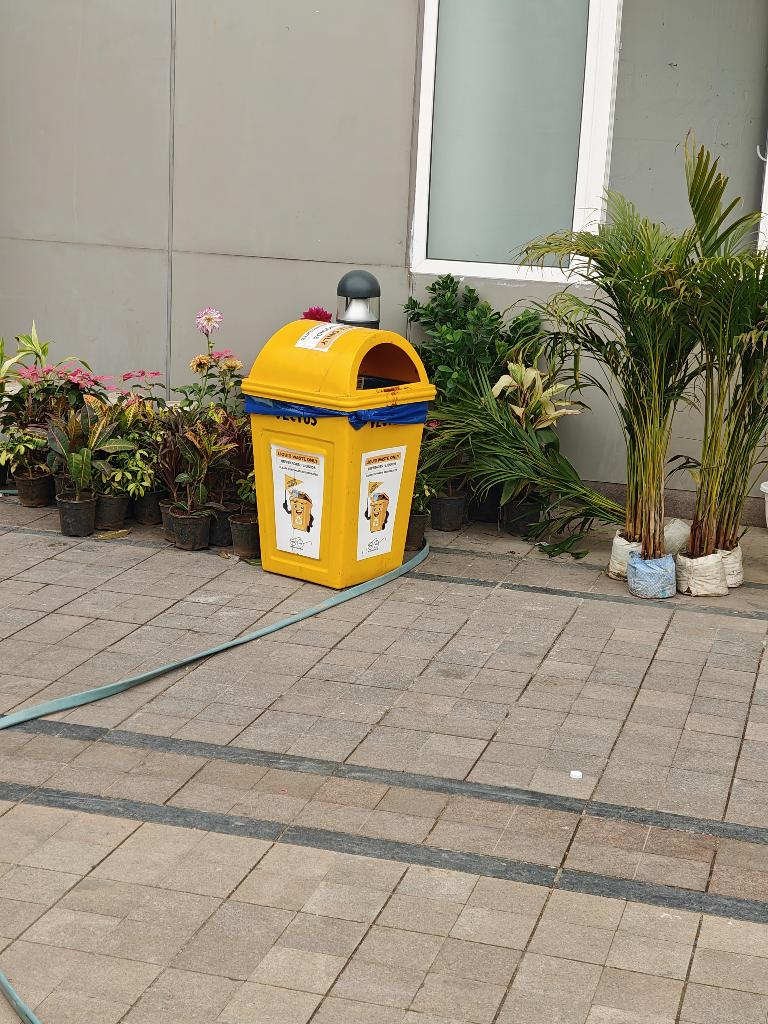dustbin: (221, 292, 441, 603)
